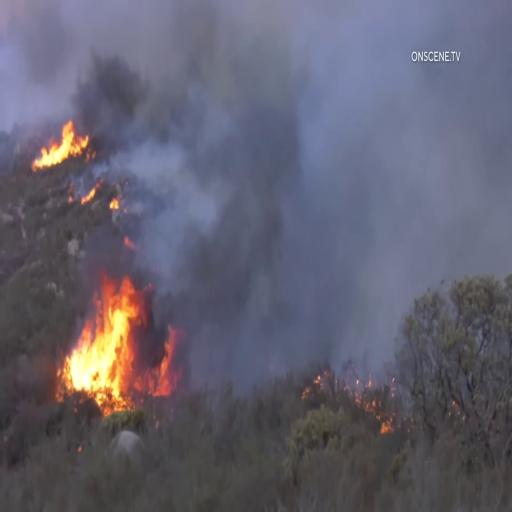fire: (75, 248, 179, 408), (300, 346, 415, 450)
smoke: (128, 78, 256, 236)
